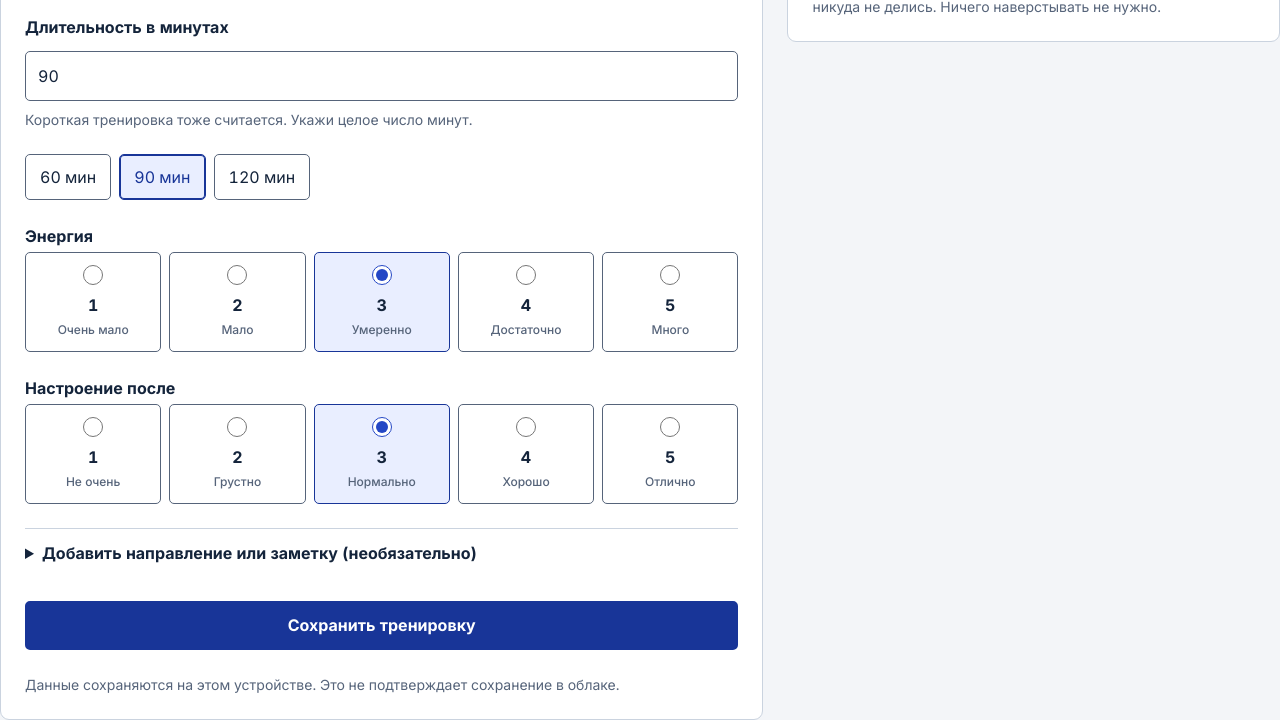
Scenario: real training journey › shows translated fields and completion in ru
(page scrolled)
Expected: the number field labelled "Длительность в минутах" is shown, 25,51 -> 738,101
Click the button "Сохранить тренировку".
click(382, 625)  # box 25,601 -> 738,650
(page scrolled)
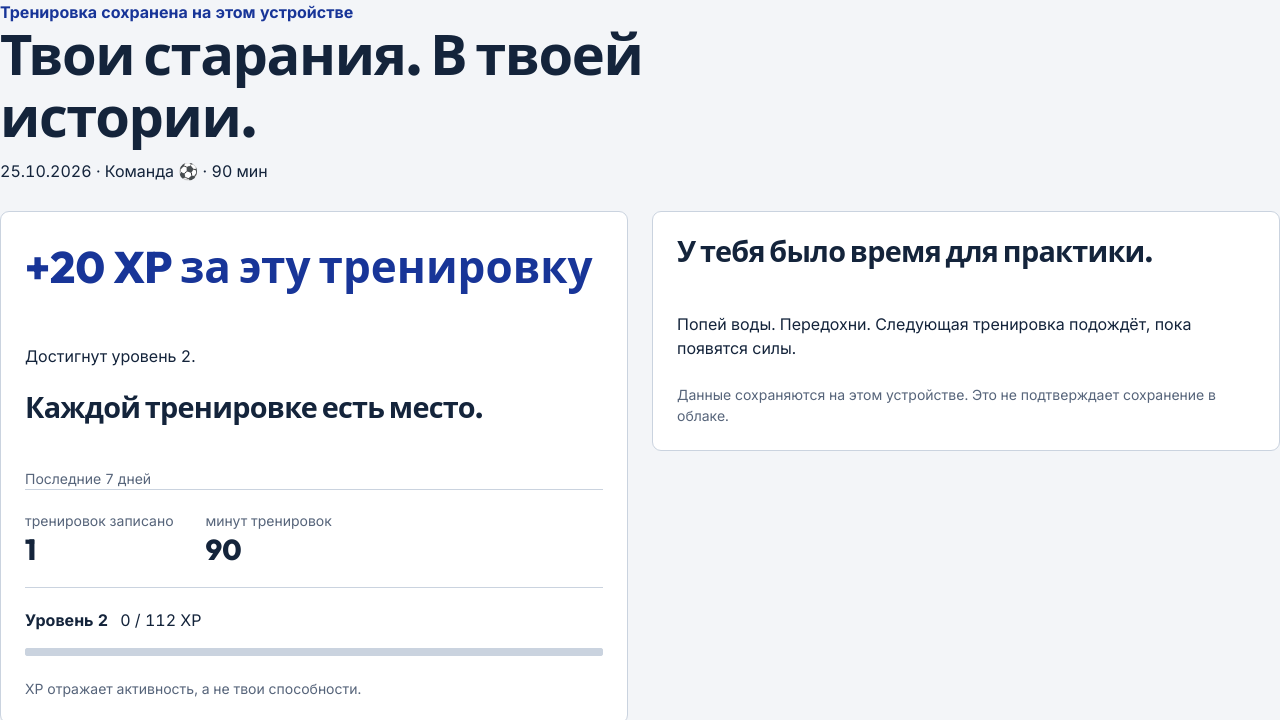
Now the text "Тренировка сохранена на этом устройстве" is shown, box 0,2 -> 353,22
Now the heading "Твои старания. В твоей истории." is shown, box 0,19 -> 642,152
